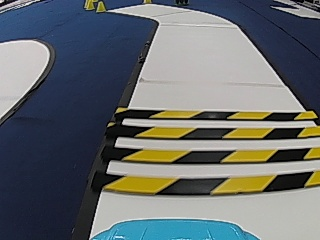bump: (98, 98, 314, 201)
